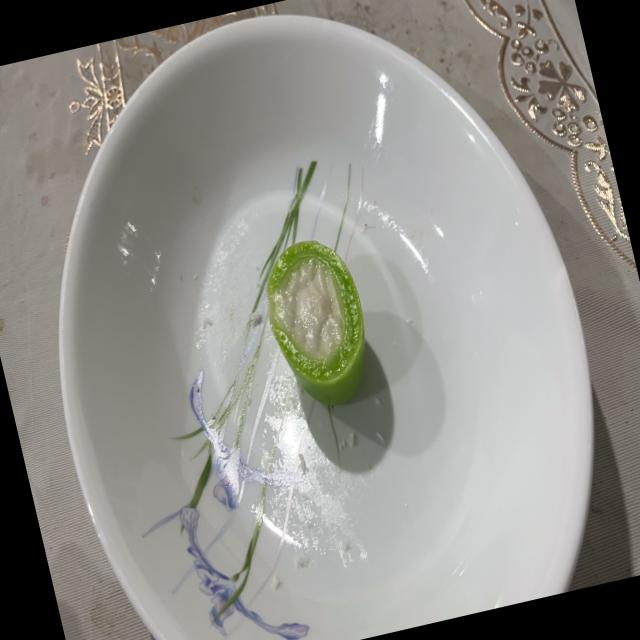nona-manis: (266, 239, 365, 405)
